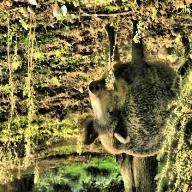boar: (77, 19, 192, 179)
